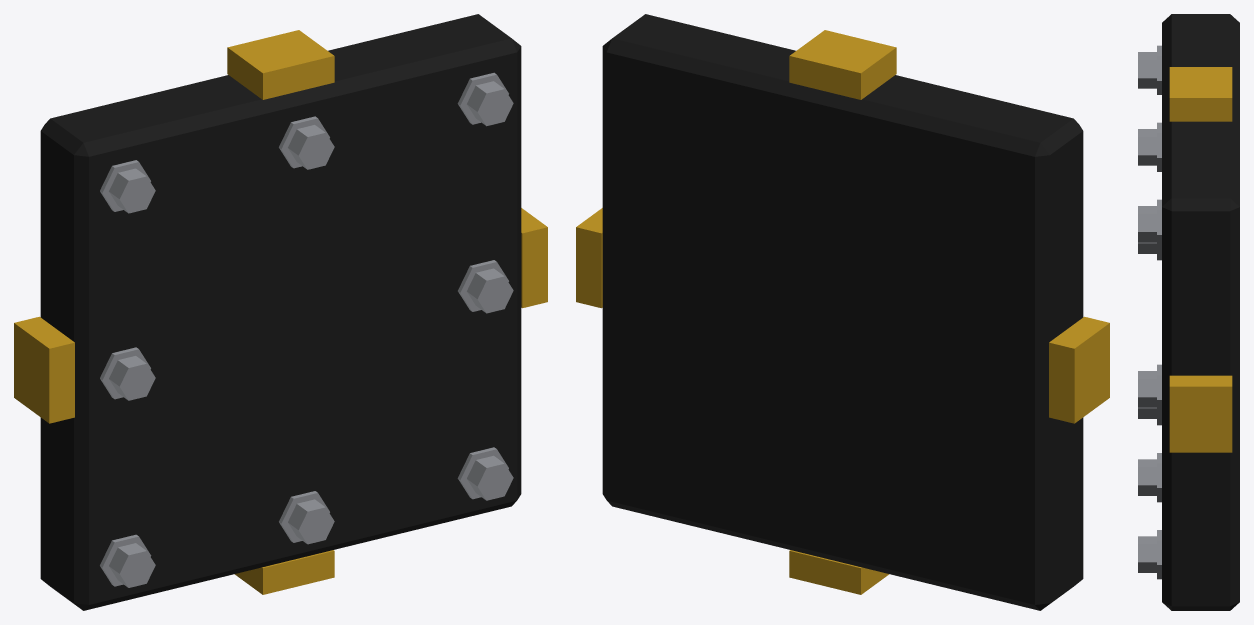
Rendered from tr20k_flange.obj.
3 views of the same model, side by side, from view 1: azimuth 30°, elevation 25°; view 2: azimuth 150°, elevation 25°; view 3: azimuth 270°, elevation 25° (orthographic). The views are drawn at different scales.
Visible parts, largest first — view 1: tr20k_flange; view 2: tr20k_flange; view 3: tr20k_flange.
Boxes of the visible parts, left/top/right/bottom form: tr20k_flange: left=14, top=14, right=547, bottom=610; tr20k_flange: left=576, top=14, right=1109, bottom=610; tr20k_flange: left=1138, top=14, right=1239, bottom=610.
Bounding box in the file's own units: 1.56 × 1.56 × 0.3135.
